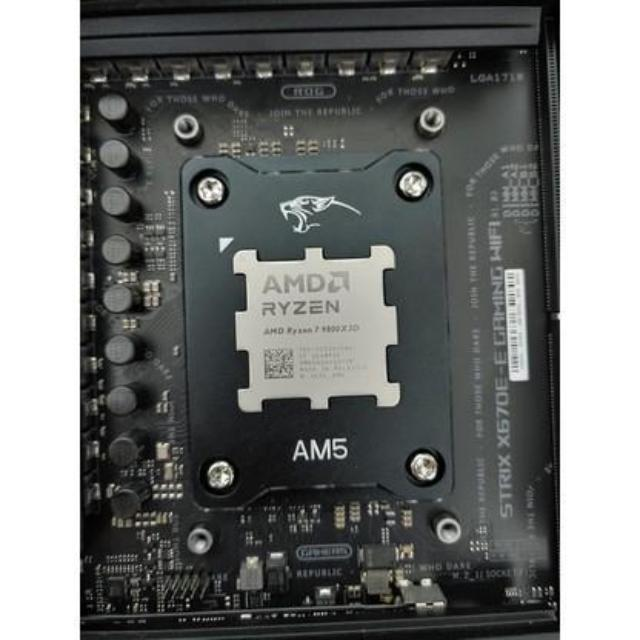CPU: (231, 248, 406, 423)
